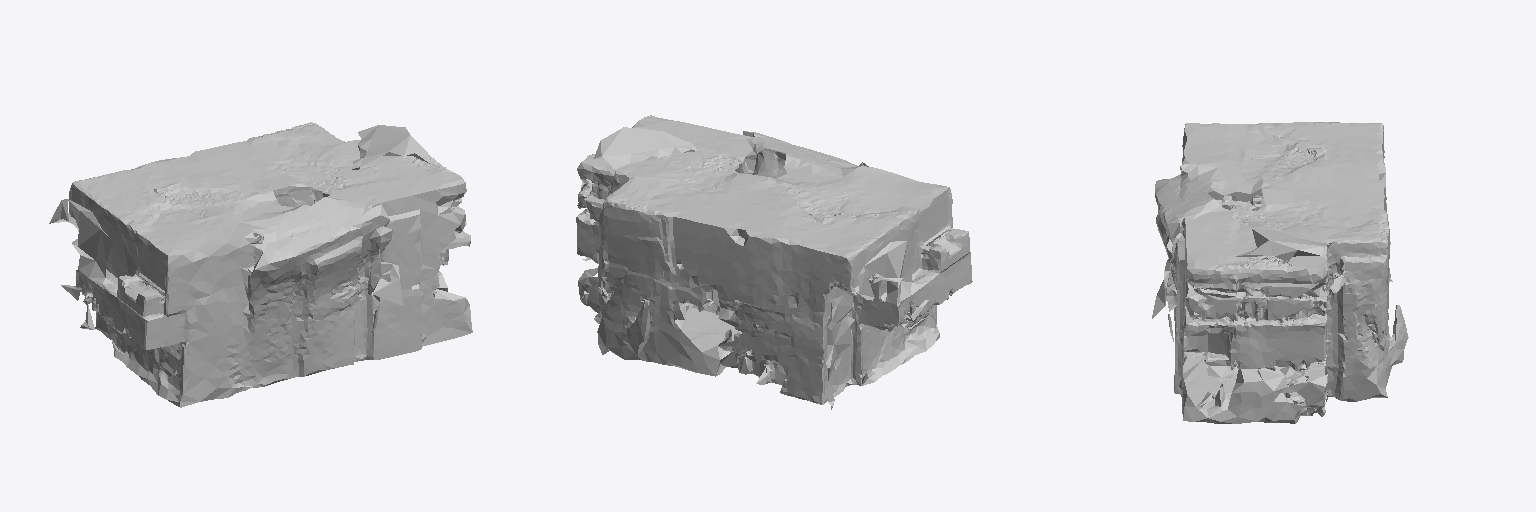
File: Beaty Main.obj
The picture shows the model from 3 angles: view 1: azimuth 30°, elevation 25°; view 2: azimuth 150°, elevation 25°; view 3: azimuth 270°, elevation 25°; orthographic projection.
Parts seen in each view (by area): view 1: mesh_simple_rotated_0, mesh_simple_rotated_1; view 2: mesh_simple_rotated_0, mesh_simple_rotated_1; view 3: mesh_simple_rotated_0, mesh_simple_rotated_1.
Boxes of the visible parts, x1=… form: mesh_simple_rotated_0: x1=49, y1=122, x2=470, y2=407; mesh_simple_rotated_1: x1=273, y1=186, x2=472, y2=369; mesh_simple_rotated_0: x1=576, y1=115, x2=972, y2=409; mesh_simple_rotated_1: x1=576, y1=218, x2=737, y2=371; mesh_simple_rotated_0: x1=1152, y1=122, x2=1392, y2=416; mesh_simple_rotated_1: x1=1174, y1=243, x2=1408, y2=423.
Bounding box in the file's own units: 5.25 × 2.61 × 3.43.